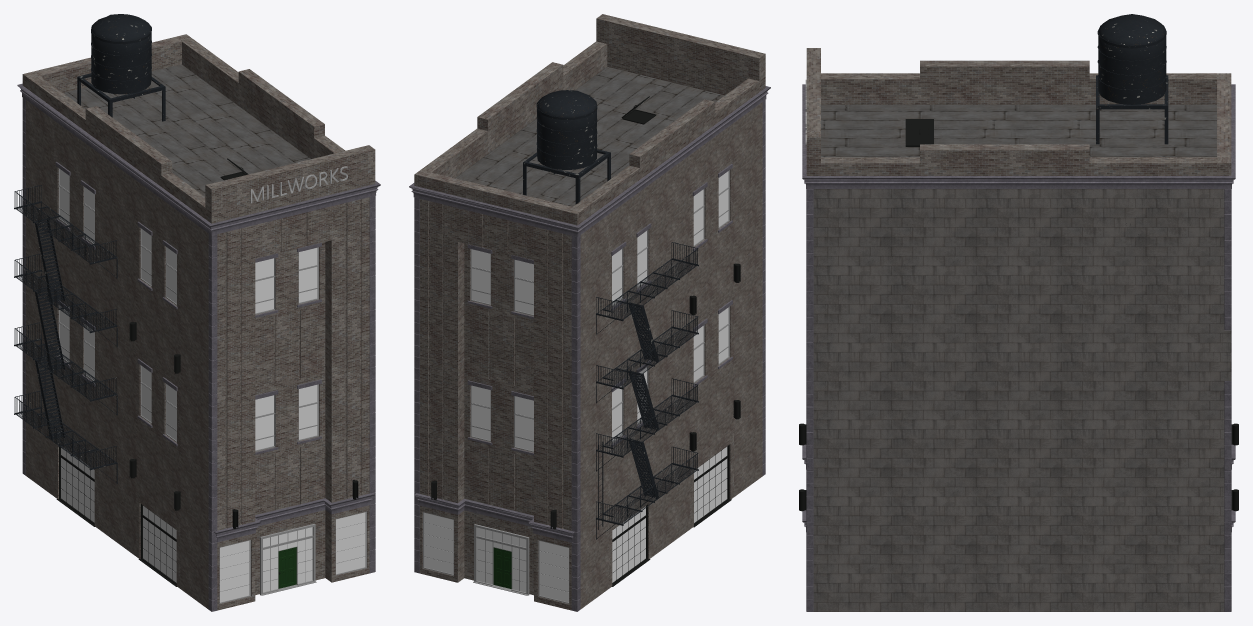
The model's file is Building_19.fbx.
The picture shows the model from 3 angles, left to right: view 1: azimuth 30°, elevation 25°; view 2: azimuth 150°, elevation 25°; view 3: azimuth 270°, elevation 25°; orthographic projection. The views are drawn at different scales.
Visible parts, largest first — view 1: Building_19_LOD0; view 2: Building_19_LOD0; view 3: Building_19_LOD0.
Boxes of the visible parts, x1,y1,x2,y2 form: Building_19_LOD0: (14,14,380,611); Building_19_LOD0: (409,14,770,611); Building_19_LOD0: (799,14,1238,611).
Size of what is drawn, in the model's own units: 1087 by 2534 by 1895.
